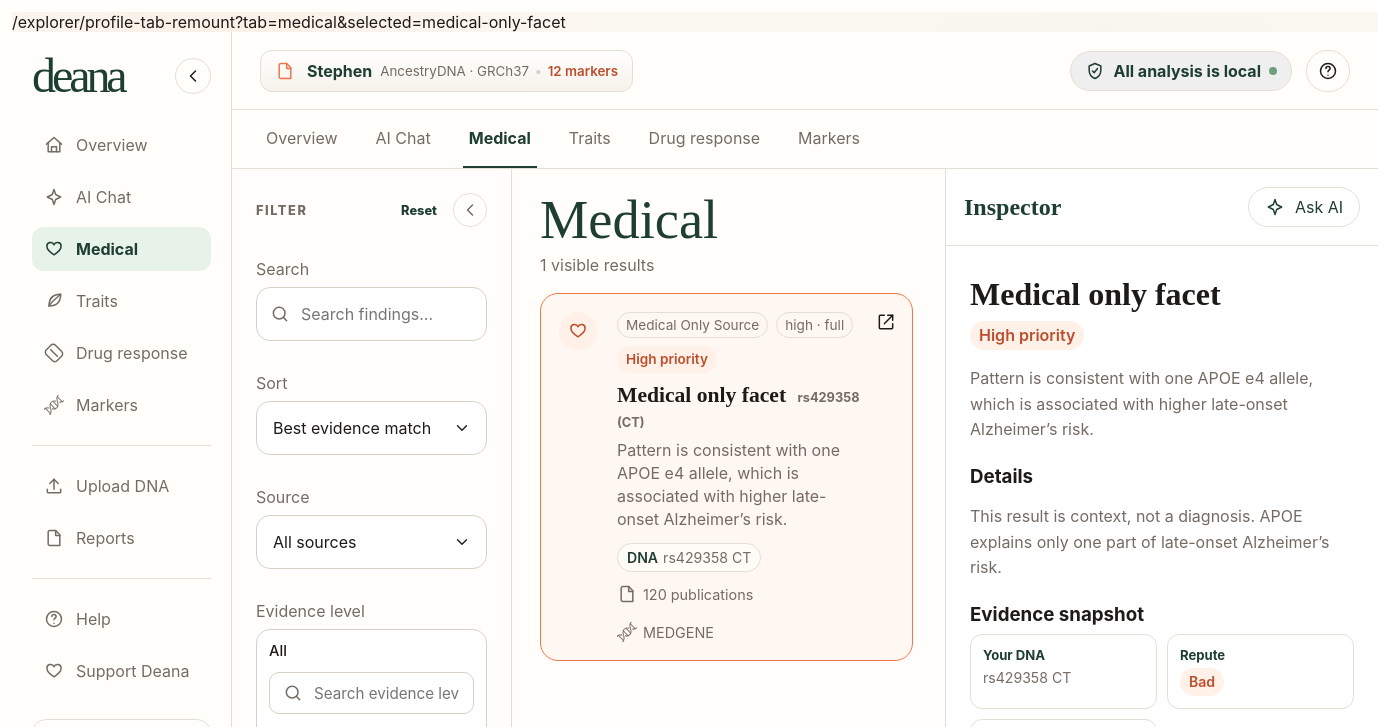
Deana app › mounts a fresh category list with top scroll when switching tabs
This screenshot has width=1378, height=727.
Click the 1st button "Drug response". click: (704, 139)
box: [643,110,766,168]
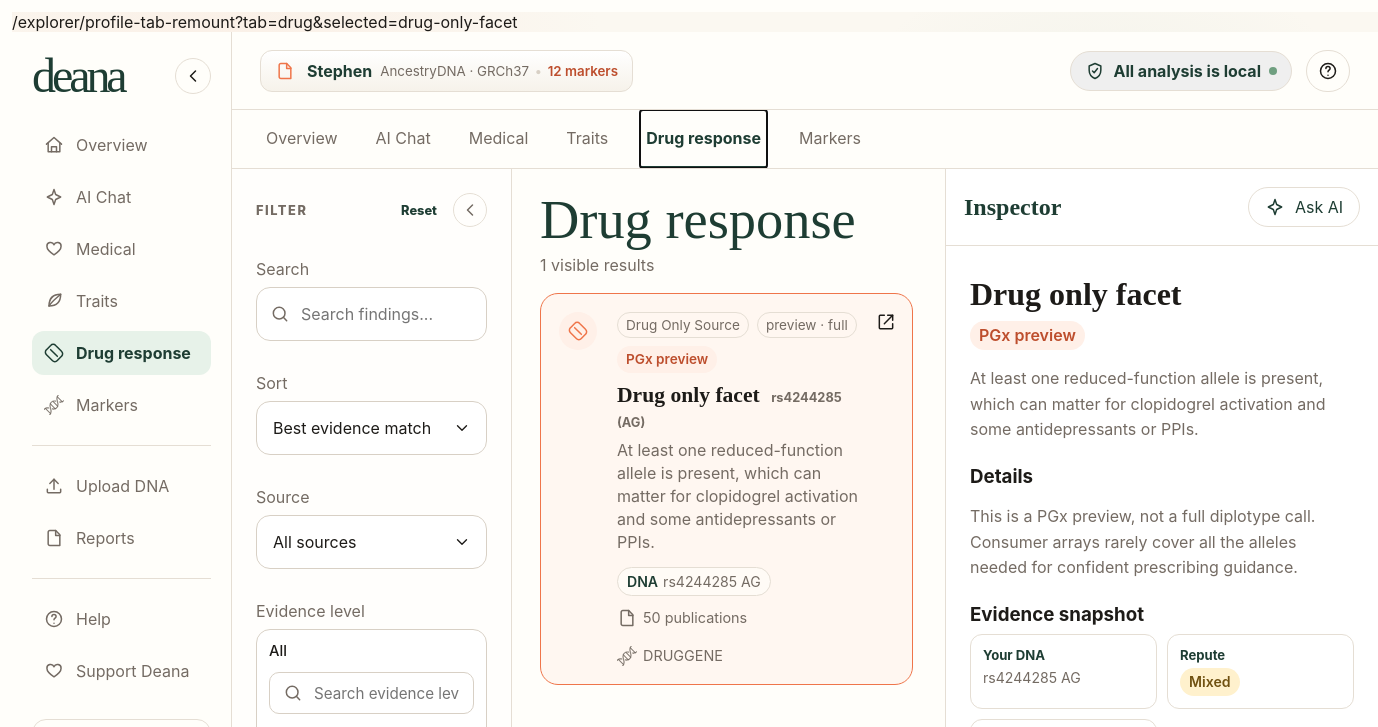
Now the heading "Drug response" is shown, box [540,193,856,247]
